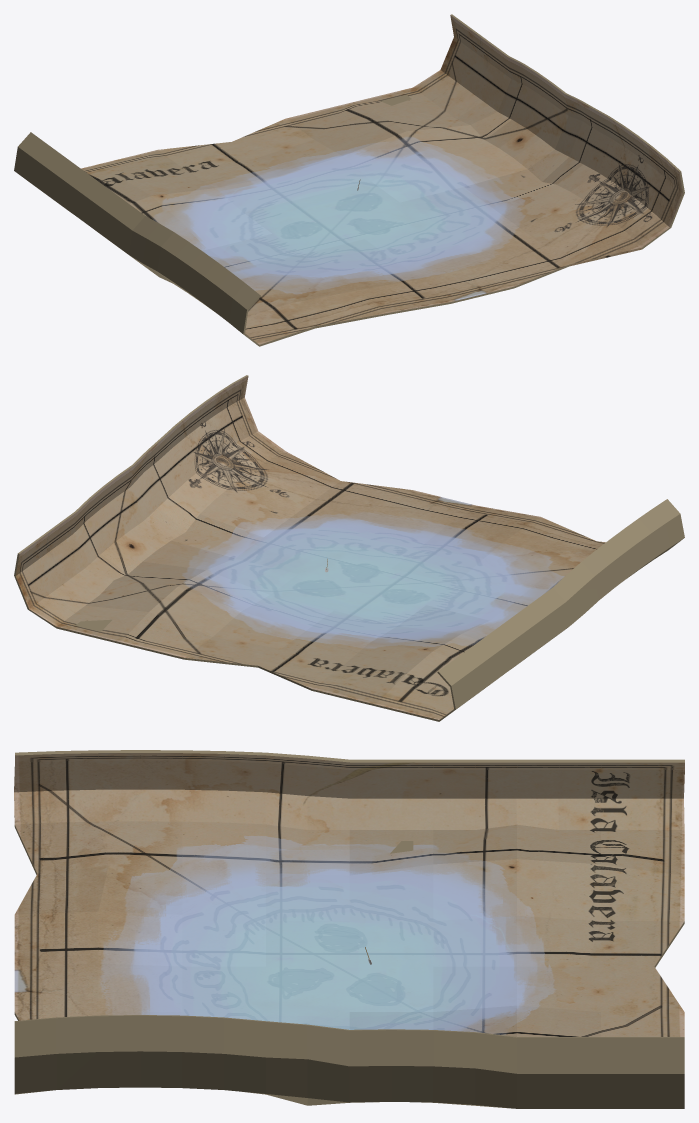
Rendered from treasure-island.glb.
3 views of the same model, one above another, from view 1: azimuth 30°, elevation 25°; view 2: azimuth 150°, elevation 25°; view 3: azimuth 270°, elevation 25° (orthographic). The views are drawn at different scales.
Parts seen in each view (by area): view 1: Plane_2; view 2: Plane_2; view 3: Plane_2.
Part boxes in pixels (bbox=[...]): Plane_2: bbox=[14, 14, 684, 346]; Plane_2: bbox=[14, 375, 684, 721]; Plane_2: bbox=[14, 750, 684, 1108].
Bounding box in the file's own units: 12.51 × 2.18 × 11.25.
Materials: 4 (1 with a texture image).
